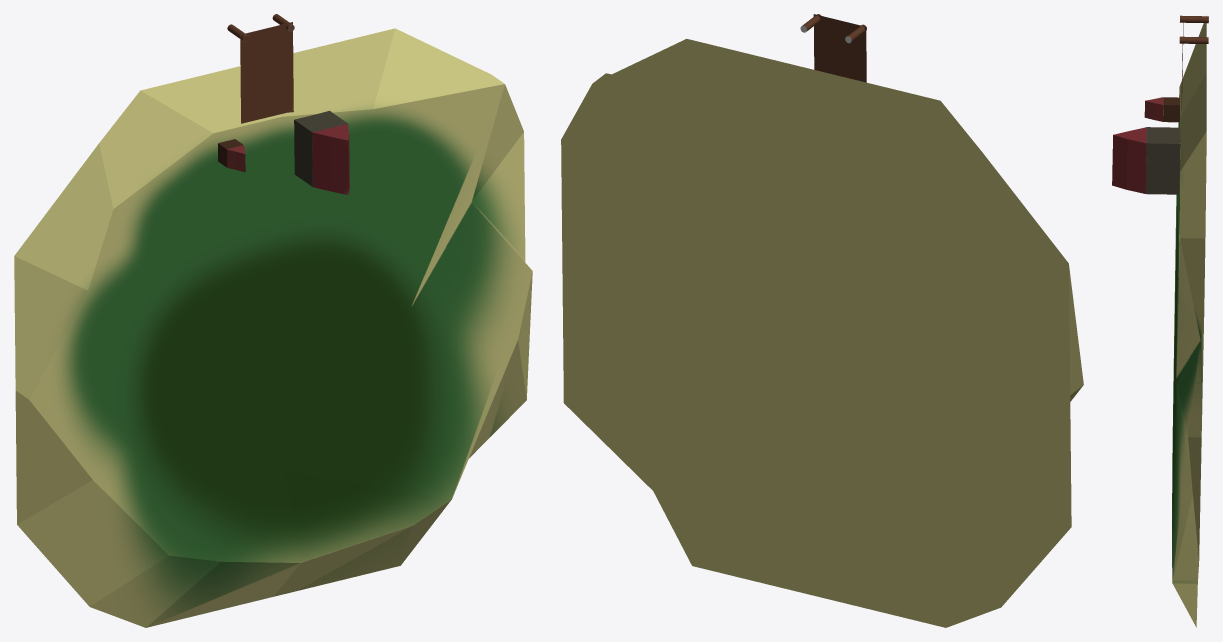
File: island3.glb
3 renders of one model, left to right at view 1: azimuth 30°, elevation 25°; view 2: azimuth 150°, elevation 25°; view 3: azimuth 270°, elevation 25°, orthographic. The views are drawn at different scales.
Visible parts, largest first — view 1: Plane, Plane.001, Cube.002, Cube; view 2: Plane, Plane.001; view 3: Plane, Cube, Cube.002, Cube.001, Cube.003, Cylinder, Cylinder.001.
Boxes of the visible parts, <box> form: Plane: <box>14,28,532,627</box>; Plane.001: <box>240,22,293,123</box>; Cube.002: <box>312,124,349,195</box>; Cube: <box>294,110,348,186</box>; Plane: <box>561,38,1083,627</box>; Plane.001: <box>813,14,866,82</box>; Plane: <box>1172,23,1206,627</box>; Cube: <box>1145,127,1180,194</box>; Cube.002: <box>1112,127,1147,194</box>; Cube.001: <box>1163,97,1179,122</box>; Cube.003: <box>1144,97,1163,121</box>; Cylinder: <box>1179,36,1208,43</box>; Cylinder.001: <box>1179,15,1208,23</box>.
Bounding box in the file's own units: 19.34 × 20.91 × 3.41.
Materials: 8 (8 with a texture image).
